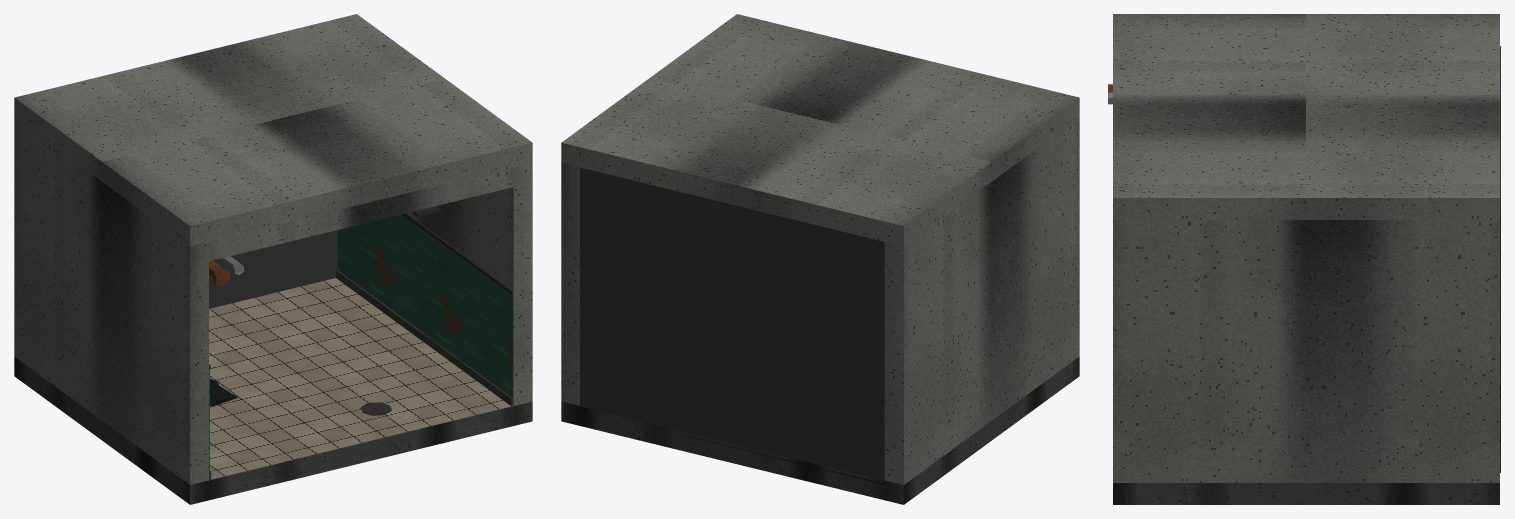
Rendered from threshold_two_end.glb.
3 renders of one model, left to right at view 1: azimuth 30°, elevation 25°; view 2: azimuth 150°, elevation 25°; view 3: azimuth 270°, elevation 25°, orthographic. The views are drawn at different scales.
Visible parts, largest first — view 1: threshold_two_end; view 2: threshold_two_end; view 3: threshold_two_end.
Part boxes in pixels (<box>): threshold_two_end: <box>14,14,532,504</box>; threshold_two_end: <box>561,14,1079,504</box>; threshold_two_end: <box>1108,14,1500,504</box>.
Size of what is drawn, in the model's own units: 4.5 by 3.61 by 4.06.
11 materials, 9 textured.
